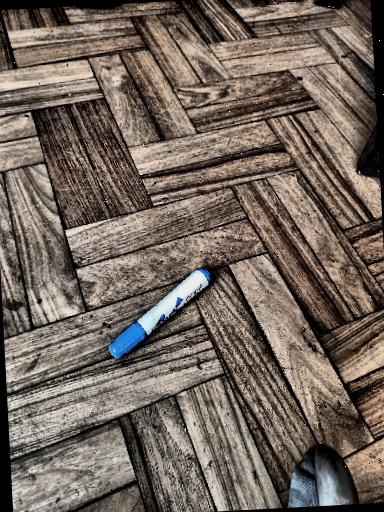marcador azul: (109, 268, 211, 358)
